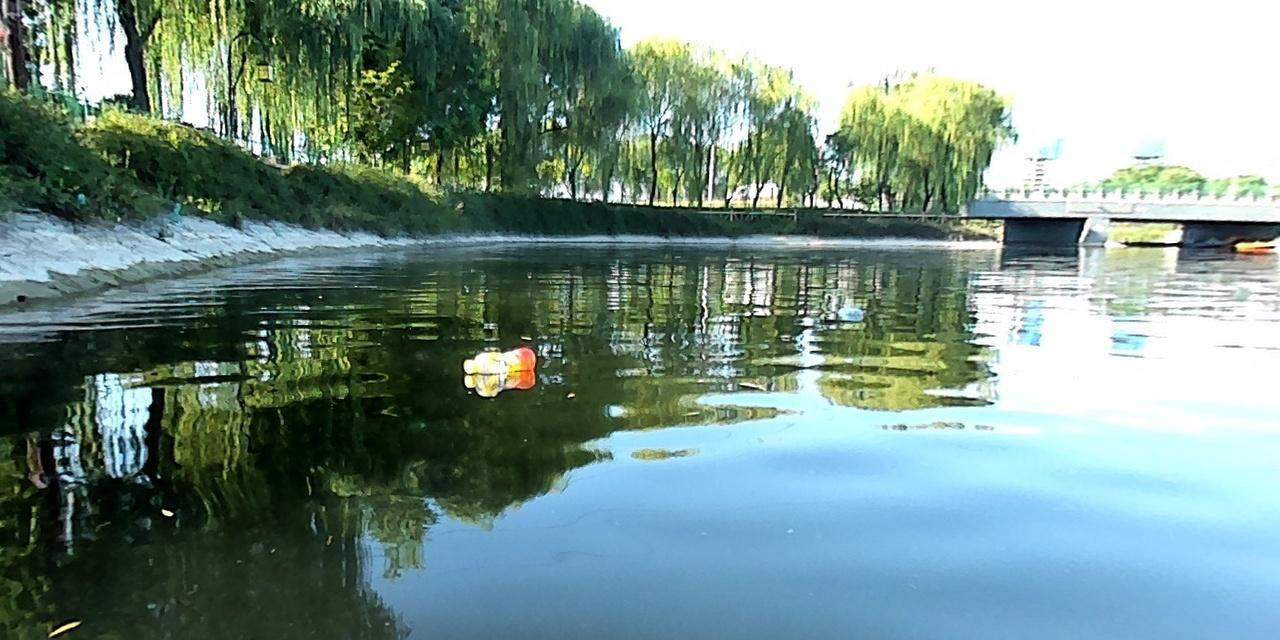bottle: (462, 344, 536, 375), (835, 303, 867, 319)
